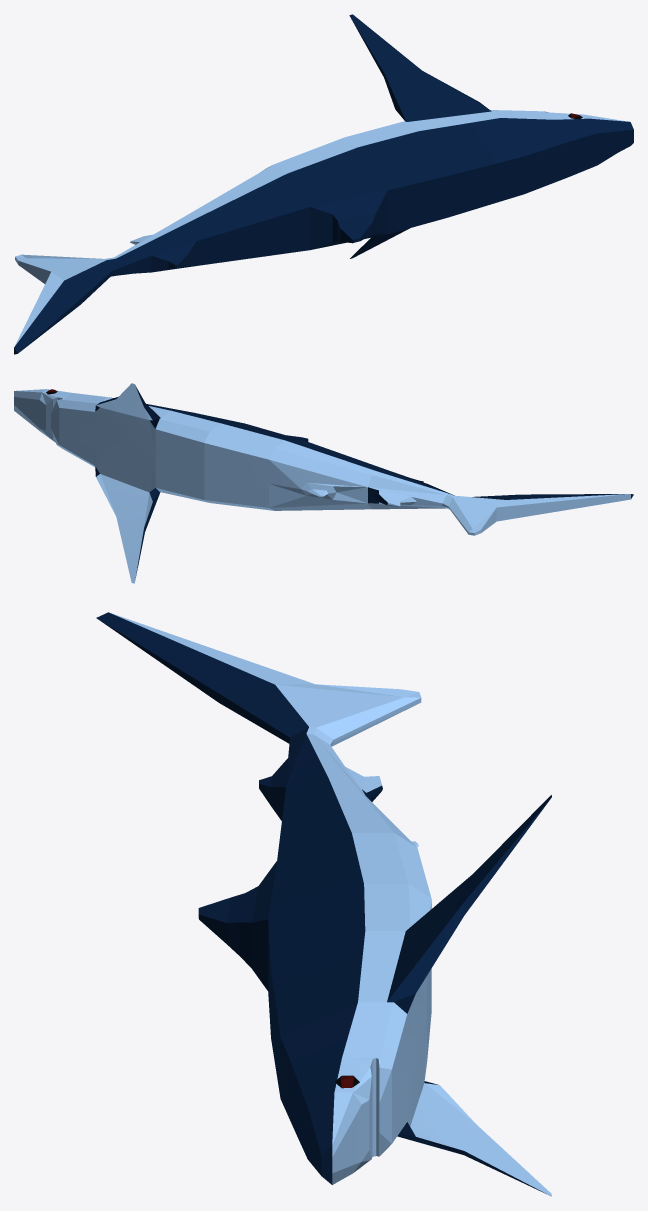
The model's file is BlueShark.glb.
3 renders of one model, top to bottom at view 1: azimuth 30°, elevation 25°; view 2: azimuth 150°, elevation 25°; view 3: azimuth 270°, elevation 25°, orthographic. The views are drawn at different scales.
Parts seen in each view (by area): view 1: BlueShark; view 2: BlueShark; view 3: BlueShark.
Boxes of the visible parts, bbox=[...] form: BlueShark: bbox=[14, 14, 633, 354]; BlueShark: bbox=[14, 383, 633, 583]; BlueShark: bbox=[96, 612, 551, 1196].
Bounding box in the file's own units: 2.41 × 0.8203 × 0.8483.
1 material, 1 textured.
